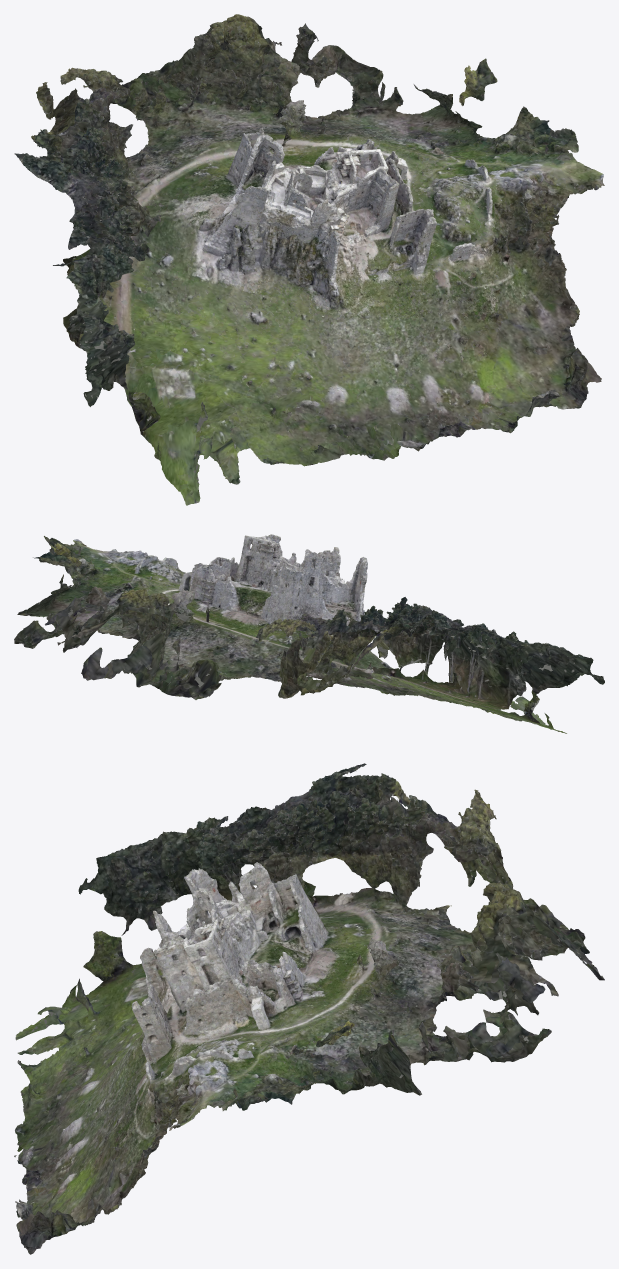
Rendered from sf-hrusov-castle-3debc2.glb.
3 views of the same model, one above another, from view 1: azimuth 30°, elevation 25°; view 2: azimuth 150°, elevation 25°; view 3: azimuth 270°, elevation 25° (orthographic). The views are drawn at different scales.
Visible parts, largest first — view 1: Object_2; view 2: Object_2; view 3: Object_2.
Part boxes in pixels (left/top/right/bottom): Object_2: left=14, top=14, right=604, bottom=505; Object_2: left=14, top=534, right=604, bottom=733; Object_2: left=14, top=763, right=604, bottom=1254.
Bounding box in the file's own units: 2.64 × 1.2 × 2.18.
1 material, 1 textured.
